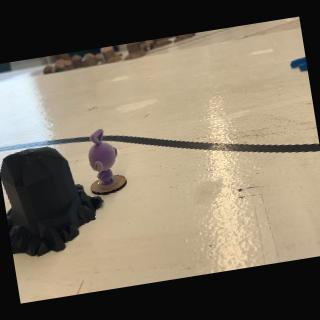teletubby: (88, 129, 117, 185)
